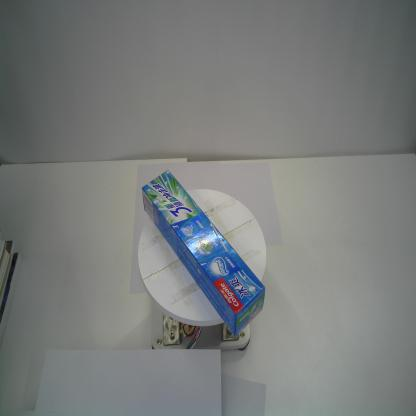Personal Hygiene: (141, 167, 266, 339)
